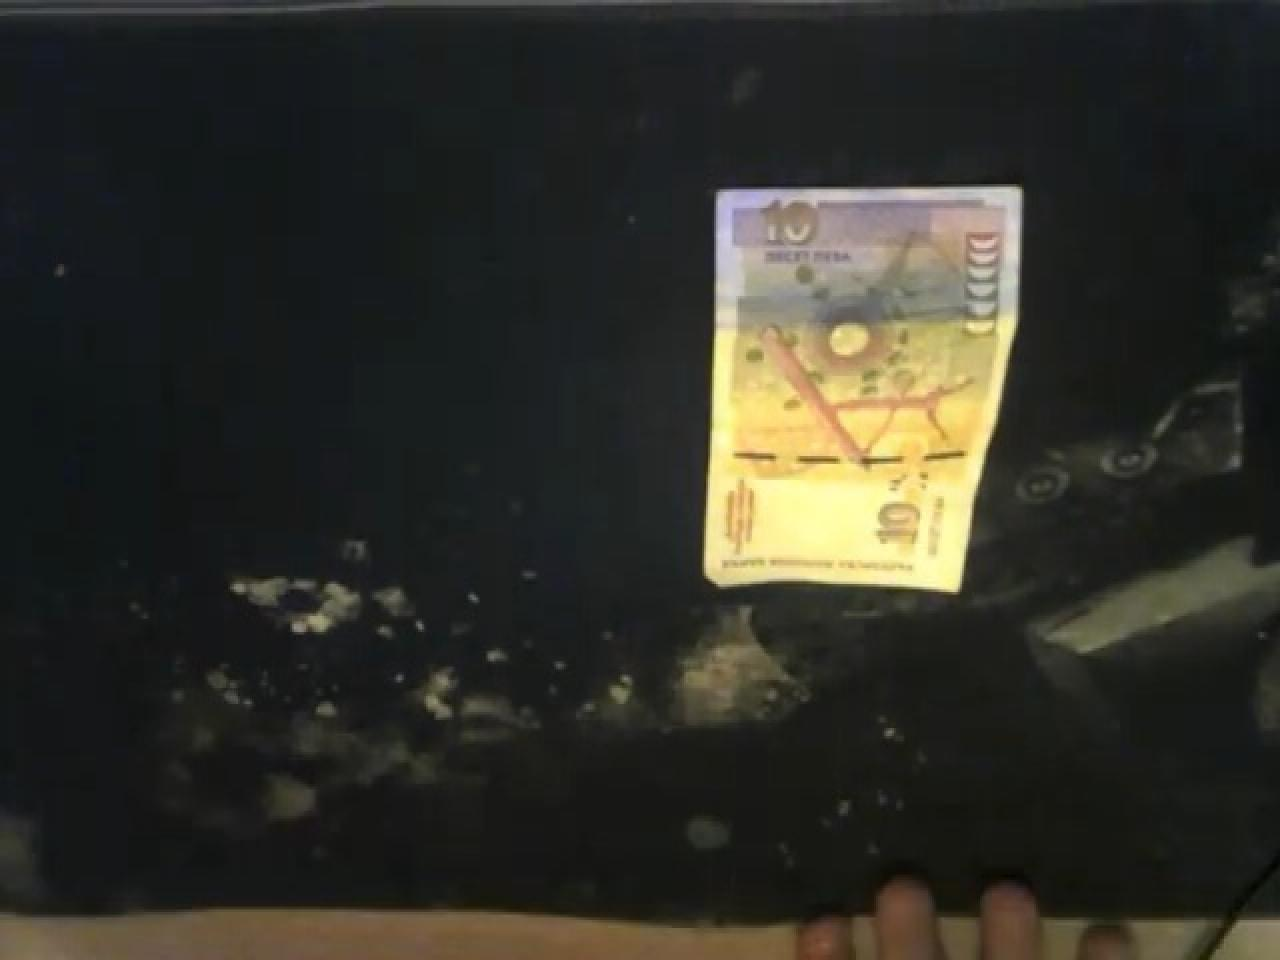10leva: (702, 178, 1026, 589)
